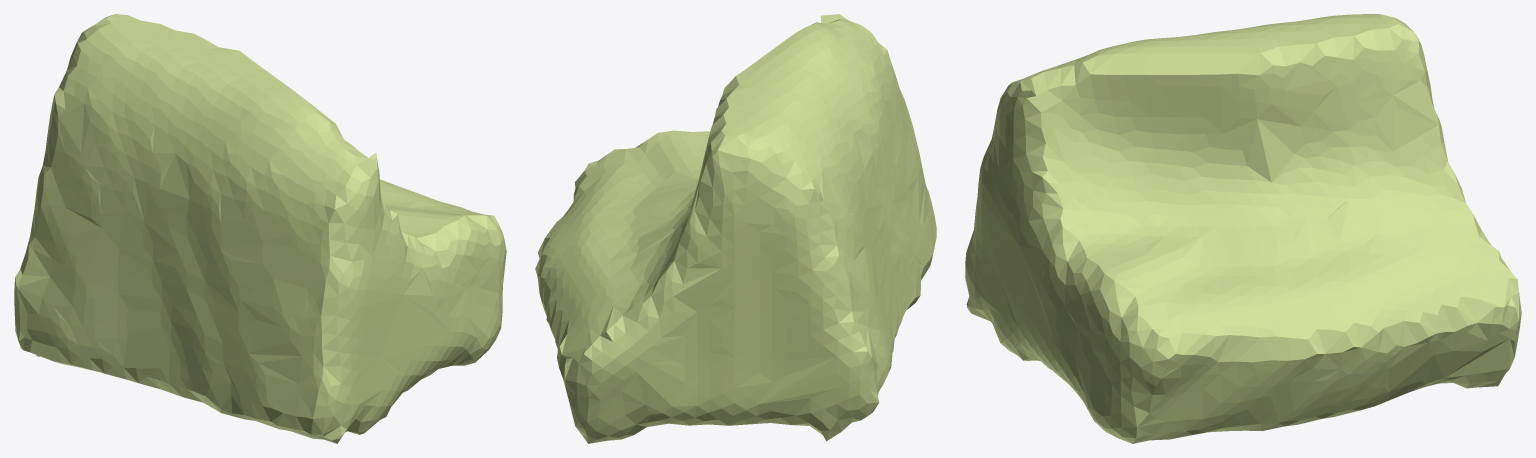
File: Model_27_RH__Anterior_intraparietal_area_of_cortex_(AIP).obj
3 views of the same model, side by side, from view 1: azimuth 30°, elevation 25°; view 2: azimuth 150°, elevation 25°; view 3: azimuth 270°, elevation 25° (orthographic). The views are drawn at different scales.
Size of the model in its own units: 2.54 by 1.89 by 3.01.
